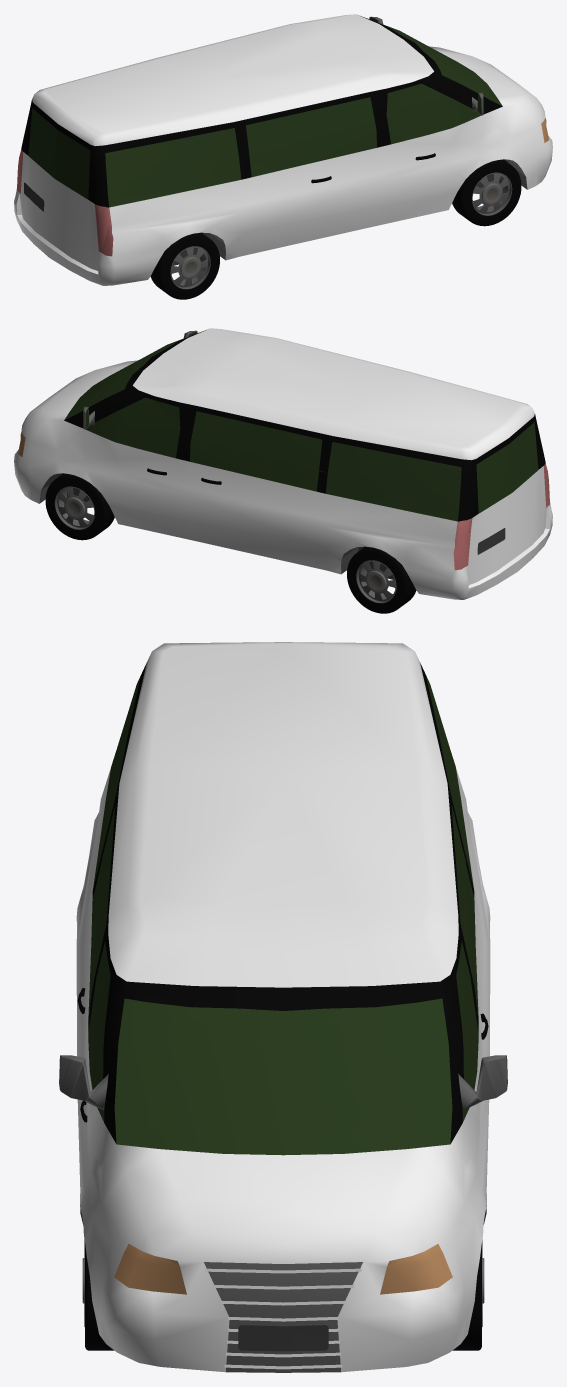
File: car10.glb
3 renders of one model, top to bottom at view 1: azimuth 30°, elevation 25°; view 2: azimuth 150°, elevation 25°; view 3: azimuth 270°, elevation 25°, orthographic. The views are drawn at different scales.
Visible parts, largest first — view 1: ~??_19_materialGroup_3, ~Material__32_materialGroup_7, ~_____21_materialGroup_4, obj23~_____21_materialGroup_8, obj41~_____21_materialGroup_12, ~??_10_materialGroup_10, obj61~??_5_materialGroup_15, ~??_16_materialGroup_11, ~??_15_materialGroup_2; view 2: ~??_19_materialGroup_3, ~Material__32_materialGroup_7, ~_____21_materialGroup_4, obj11~Material__32_materialGroup_6, ~??_10_materialGroup_10, obj61~??_5_materialGroup_15, ~??_16_materialGroup_11, ~??_15_materialGroup_2; view 3: ~??_19_materialGroup_3, ~Material__32_materialGroup_7, ~_____21_materialGroup_4, ~??_15_materialGroup_2, obj60~??_2_materialGroup_14, obj59~??_15_materialGroup_13, ~??_21_materialGroup_5, obj62~??_20_materialGroup_16, obj41~_____21_materialGroup_12.
Part boxes in pixels (x1,y1,x2,y2): ~??_19_materialGroup_3: [14, 14, 552, 285]; ~Material__32_materialGroup_7: [28, 18, 502, 207]; ~_____21_materialGroup_4: [21, 16, 502, 207]; obj23~_____21_materialGroup_8: [150, 232, 219, 299]; obj41~_____21_materialGroup_12: [452, 159, 521, 226]; ~??_10_materialGroup_10: [170, 172, 512, 289]; obj61~??_5_materialGroup_15: [17, 149, 113, 256]; ~??_16_materialGroup_11: [180, 183, 502, 278]; ~??_15_materialGroup_2: [208, 159, 527, 259]; ~??_19_materialGroup_3: [14, 328, 552, 599]; ~Material__32_materialGroup_7: [64, 332, 538, 521]; ~_____21_materialGroup_4: [45, 330, 545, 613]; obj11~Material__32_materialGroup_6: [190, 443, 318, 479]; ~??_10_materialGroup_10: [54, 486, 396, 603]; obj61~??_5_materialGroup_15: [453, 463, 549, 570]; ~??_16_materialGroup_11: [64, 497, 386, 592]; ~??_15_materialGroup_2: [39, 473, 358, 573]; ~??_19_materialGroup_3: [76, 642, 490, 1372]; ~Material__32_materialGroup_7: [88, 675, 478, 1155]; ~_____21_materialGroup_4: [88, 663, 481, 1350]; ~??_15_materialGroup_2: [80, 1205, 486, 1372]; obj60~??_2_materialGroup_14: [114, 1244, 452, 1294]; obj59~??_15_materialGroup_13: [59, 1055, 507, 1110]; ~??_21_materialGroup_5: [205, 1268, 361, 1369]; obj62~??_20_materialGroup_16: [238, 1325, 328, 1351]; obj41~_____21_materialGroup_12: [85, 1243, 113, 1350].
Bounding box in the file's own units: 6.79 × 2.28 × 2.77.
